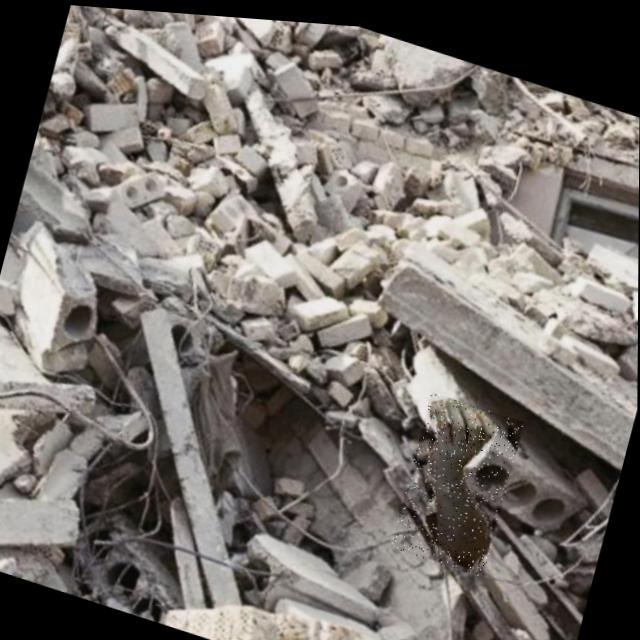Person in Rubble: (391, 383, 524, 572)
